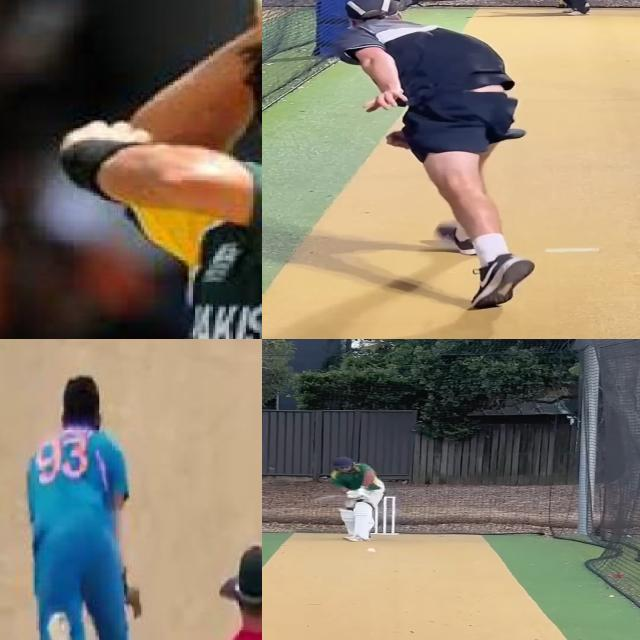Cricket ball: (367, 547, 378, 554)
Stumps: (370, 496, 397, 537)
